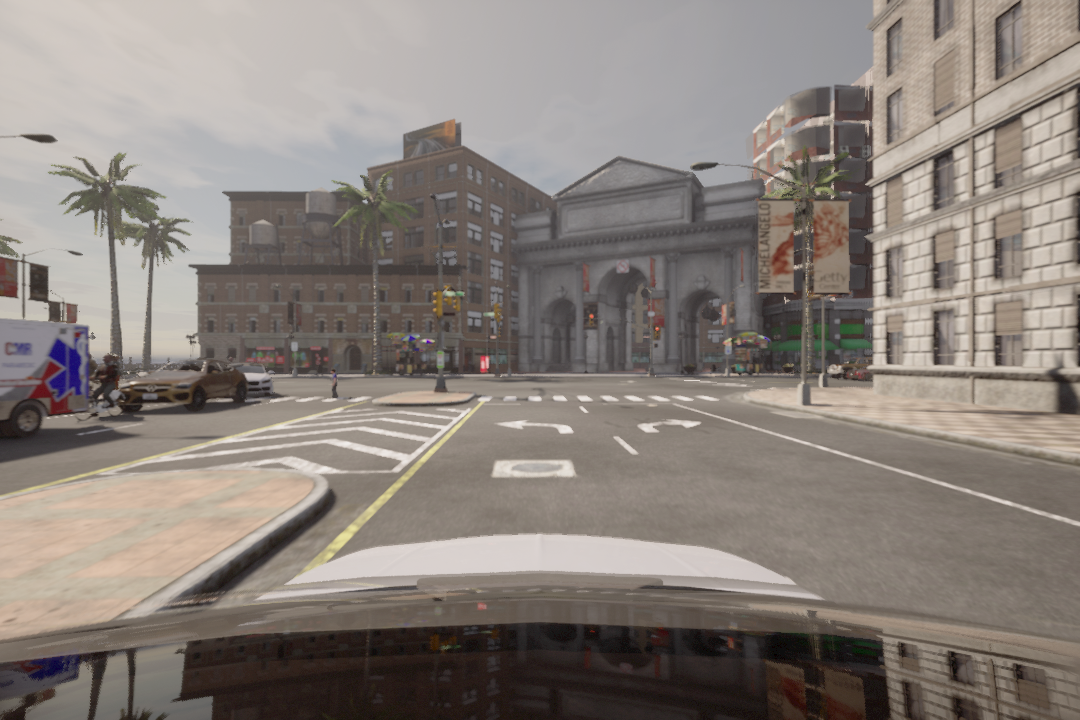RoadSign_left: (495, 415, 575, 442)
RoadSign_right: (636, 410, 705, 434)
TrafficSign: (614, 260, 629, 274)
walkside: (477, 393, 731, 404), (242, 393, 372, 406)
